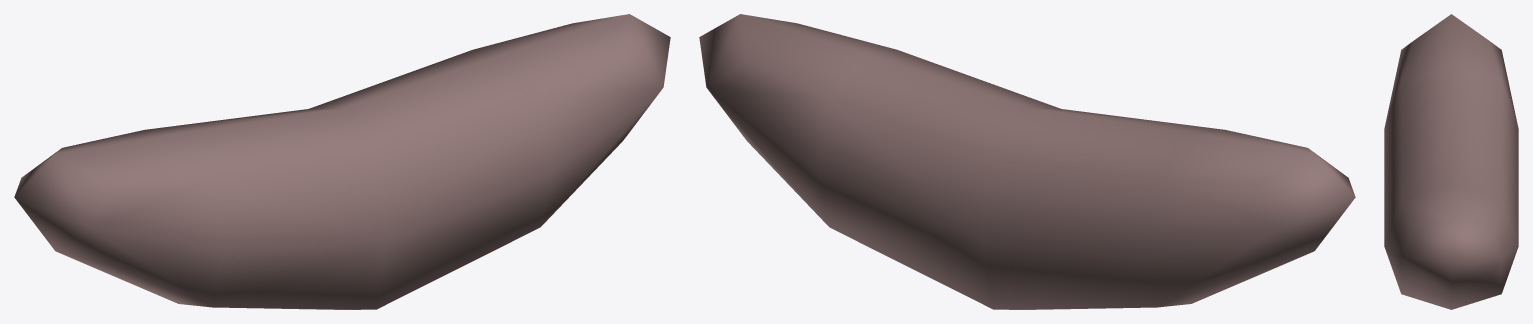
Rendered from Face_Mouth_Closed.fbx.
The picture shows the model from 3 angles, left to right: view 1: azimuth 30°, elevation 25°; view 2: azimuth 150°, elevation 25°; view 3: azimuth 270°, elevation 25°; orthographic projection. The views are drawn at different scales.
Parts seen in each view (by area): view 1: Cube; view 2: Cube; view 3: Cube.
Part boxes in pixels (left/top/right/bottom): Cube: left=14, top=14, right=670, bottom=309; Cube: left=699, top=14, right=1355, bottom=309; Cube: left=1384, top=14, right=1518, bottom=309.
Size of the model in its own units: 7.3 by 2.4 by 1.75.
Materials: 1 (1 with a texture image).
